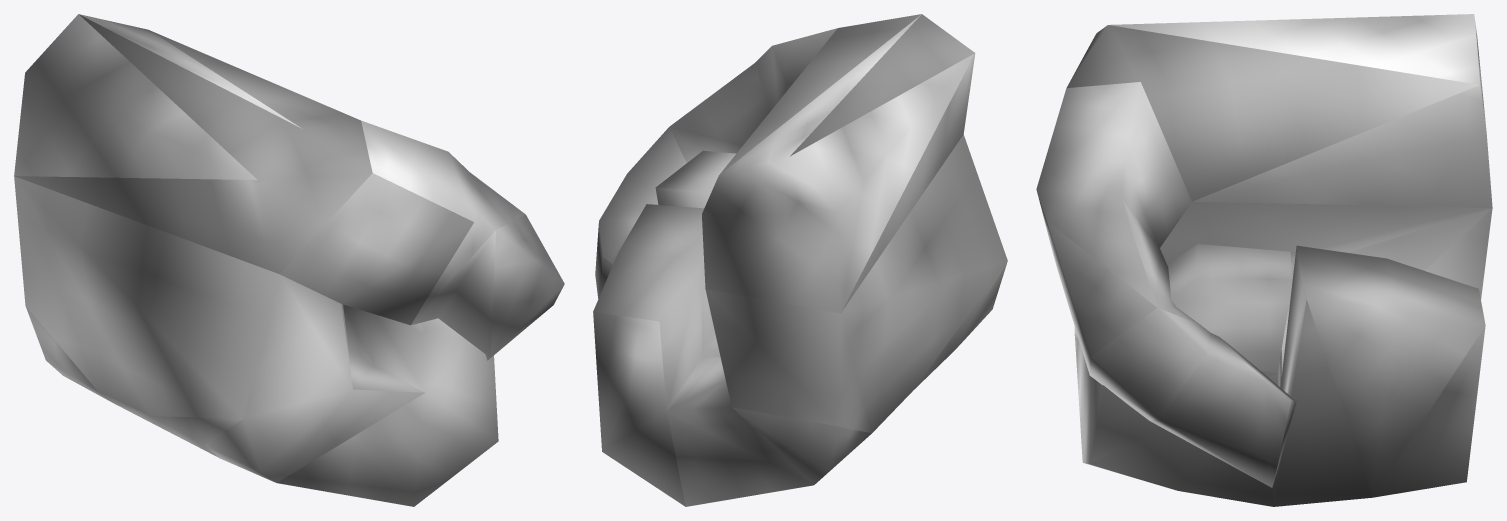
The model's file is r_hand.glb.
3 renders of one model, left to right at view 1: azimuth 30°, elevation 25°; view 2: azimuth 150°, elevation 25°; view 3: azimuth 270°, elevation 25°, orthographic. The views are drawn at different scales.
Visible parts, largest first — view 1: r_hand; view 2: r_hand; view 3: r_hand.
Boxes of the visible parts, x1=… form: r_hand: x1=14, y1=14, x2=564, y2=506; r_hand: x1=593, y1=14, x2=1007, y2=506; r_hand: x1=1036, y1=14, x2=1492, y2=506.
Size of the model in its own units: 0.2403 by 0.259 by 0.2518.
2 materials, 2 textured.
